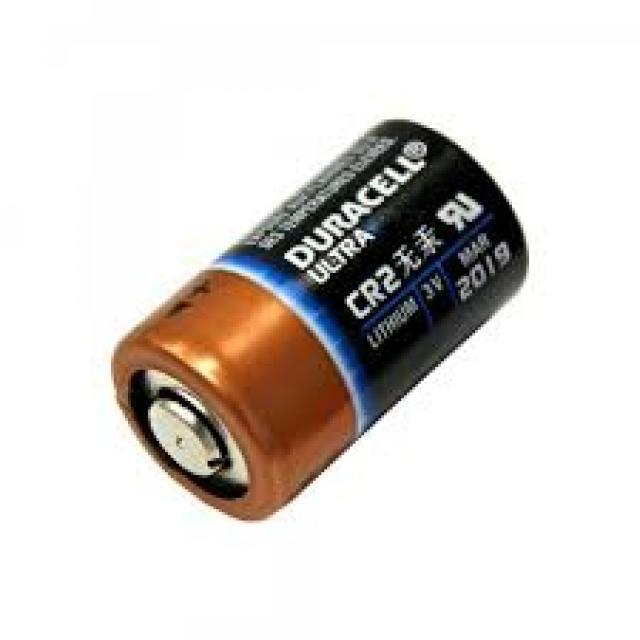battery: (111, 114, 532, 523)
